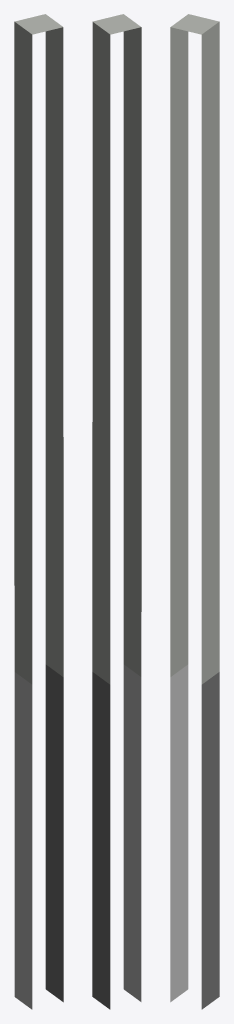
File: SM_Wall_10.fbx
The picture shows the model from 3 angles, left to right: view 1: azimuth 30°, elevation 25°; view 2: azimuth 210°, elevation 25°; view 3: azimuth 330°, elevation 25°; orthographic projection.
Visible parts, largest first — view 1: SM_Wall_10; view 2: SM_Wall_10; view 3: SM_Wall_10.
Boxes of the visible parts, bbox=[...] form: SM_Wall_10: bbox=[14, 14, 63, 1009]; SM_Wall_10: bbox=[92, 14, 141, 1009]; SM_Wall_10: bbox=[170, 14, 219, 1009].
Bounding box in the file's own units: 10 × 300 × 10.
